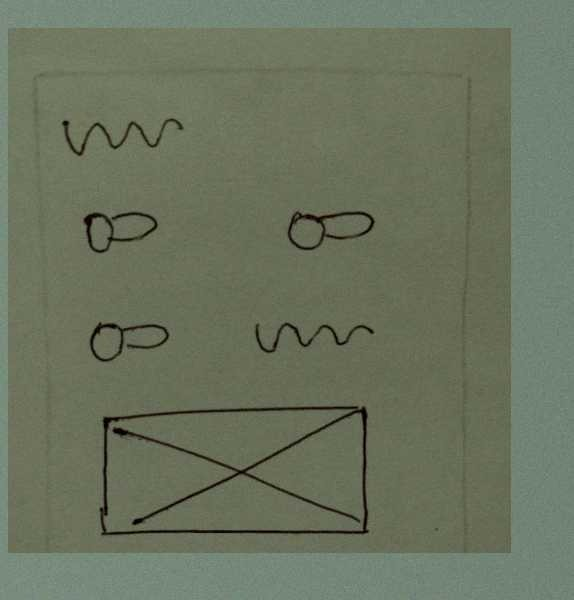image: (88, 395, 378, 543)
switch: (277, 192, 382, 265), (76, 310, 176, 369), (73, 204, 164, 258)
text: (244, 307, 382, 365), (54, 107, 189, 158)
